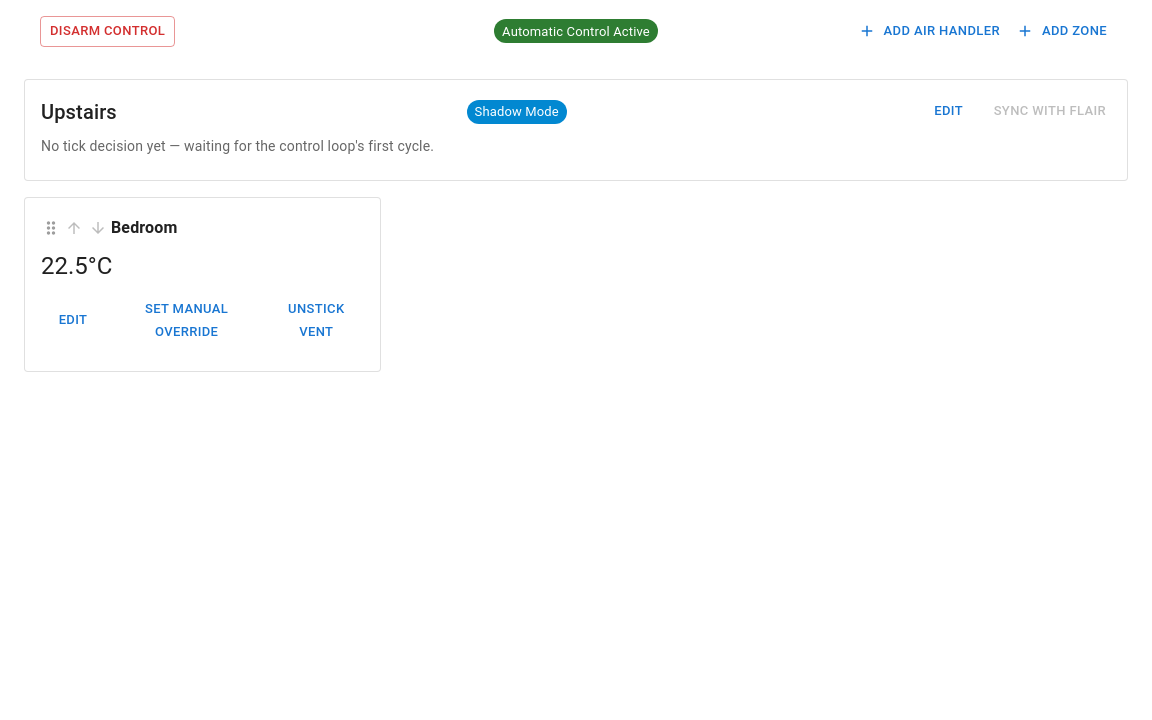
it: DashboardPage › opens the zone detail dialog for the clicked zone's Edit button
Check: the heading "Bedroom" is shown, box [111,214,178,242]
Step 1. Click the button "Edit" below "22.5°C" → (73, 321), box [41,294,105,347]
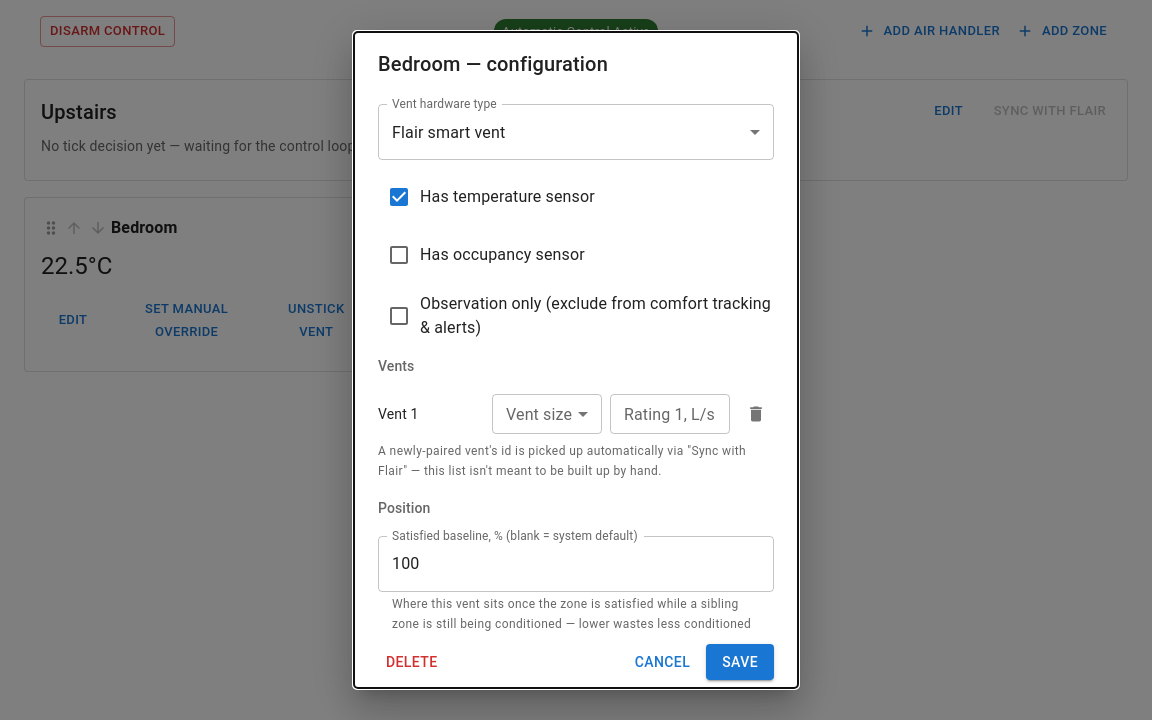
Check: the heading "Bedroom — configuration" is shown, box [378,52,608,76]
